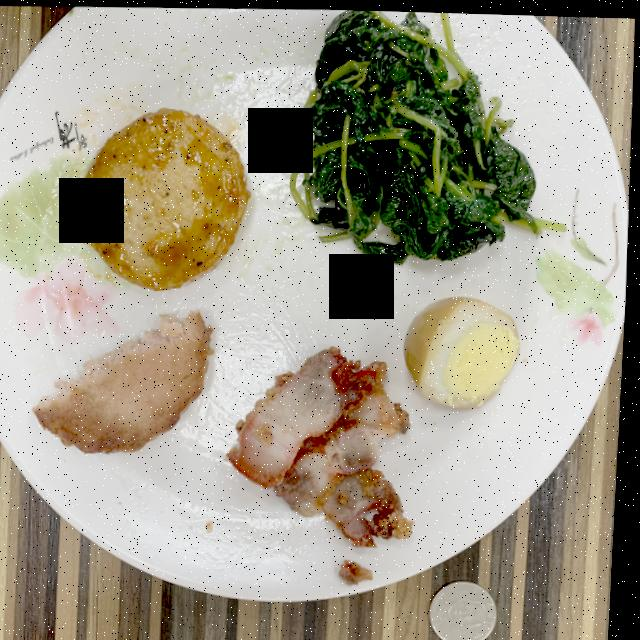Spam: (37, 310, 216, 452)
coin: (436, 578, 503, 640)
fish cake: (82, 107, 252, 288)
red grilled pork: (231, 344, 418, 544)
soy egg: (407, 294, 523, 404)
sweet potato leaves: (278, 8, 568, 263)
